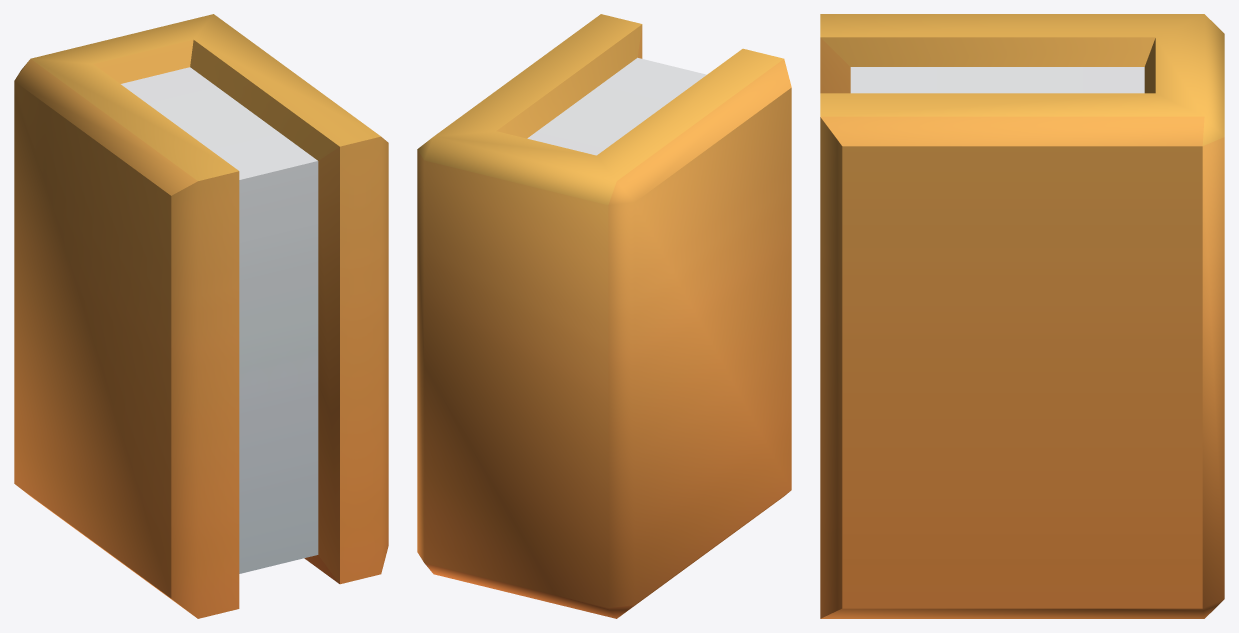
The model's file is book.glb.
3 renders of one model, left to right at view 1: azimuth 30°, elevation 25°; view 2: azimuth 150°, elevation 25°; view 3: azimuth 270°, elevation 25°, orthographic. The views are drawn at different scales.
Parts seen in each view (by area): view 1: book_single; view 2: book_single; view 3: book_single.
Boxes of the visible parts, x1=… form: book_single: x1=14, y1=14, x2=388, y2=618; book_single: x1=417, y1=14, x2=791, y2=618; book_single: x1=820, y1=14, x2=1224, y2=618.
Bounding box in the file's own units: 0.26 × 0.5 × 0.365.
Materials: 1 (1 with a texture image).
